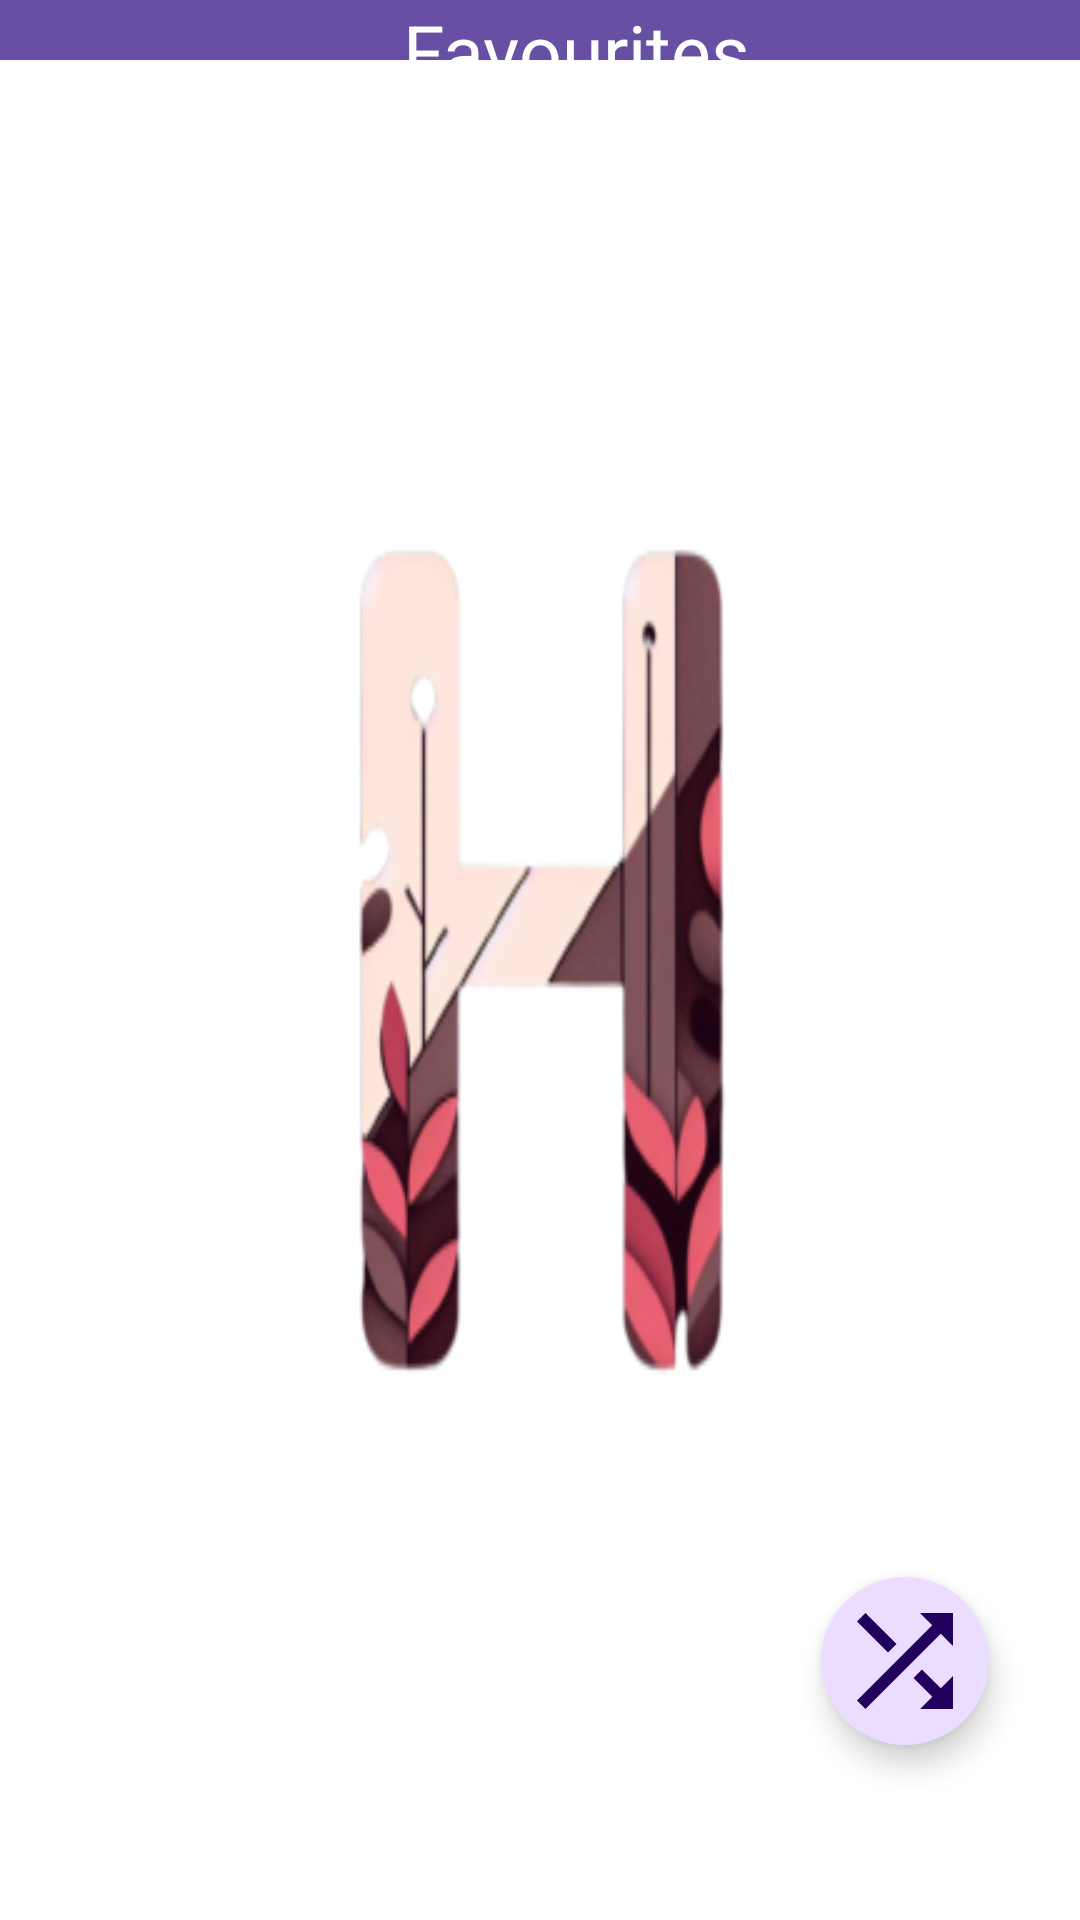

Named icons in this screenshot (1080*1920) and their centers, (x,y):
Shuffle: (905,1661)
